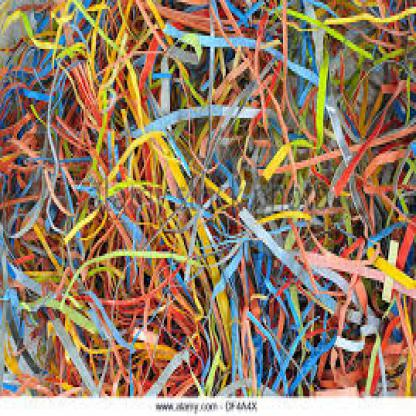paper: (0, 0, 415, 395)
